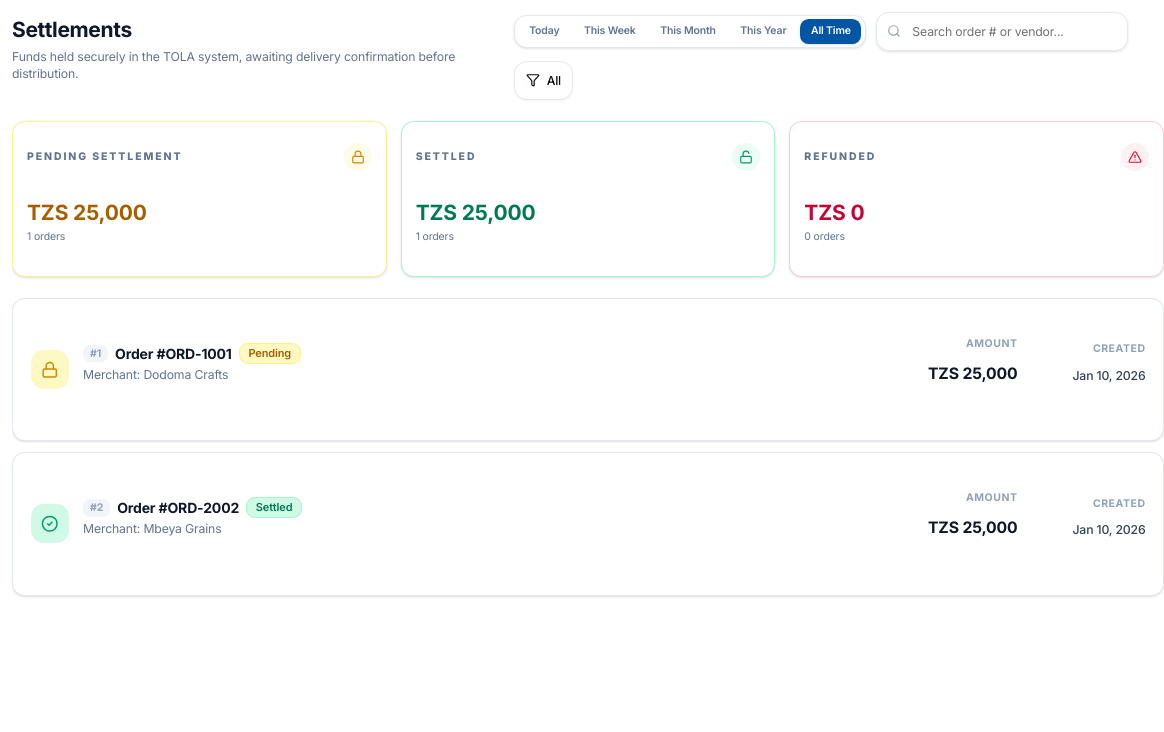
it: FinanceSettlementsTab › search and status filter › filters by order number
Type "2002" into the field with placeholder "Search order # or vendor...". click: (1002, 31)
box: [876,12,1128,50]
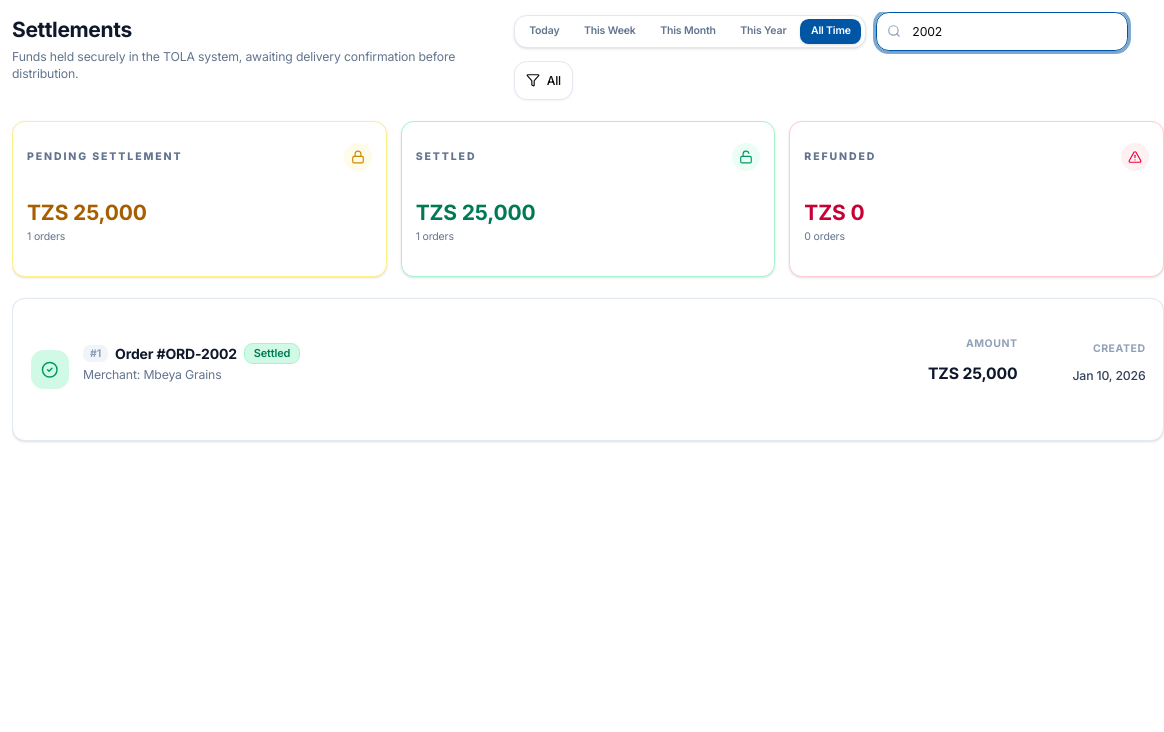
Expected: the text "Order #ORD-2002" is shown, [115,344,237,363]
Expected: the text "Order #ORD-1001" is gone
